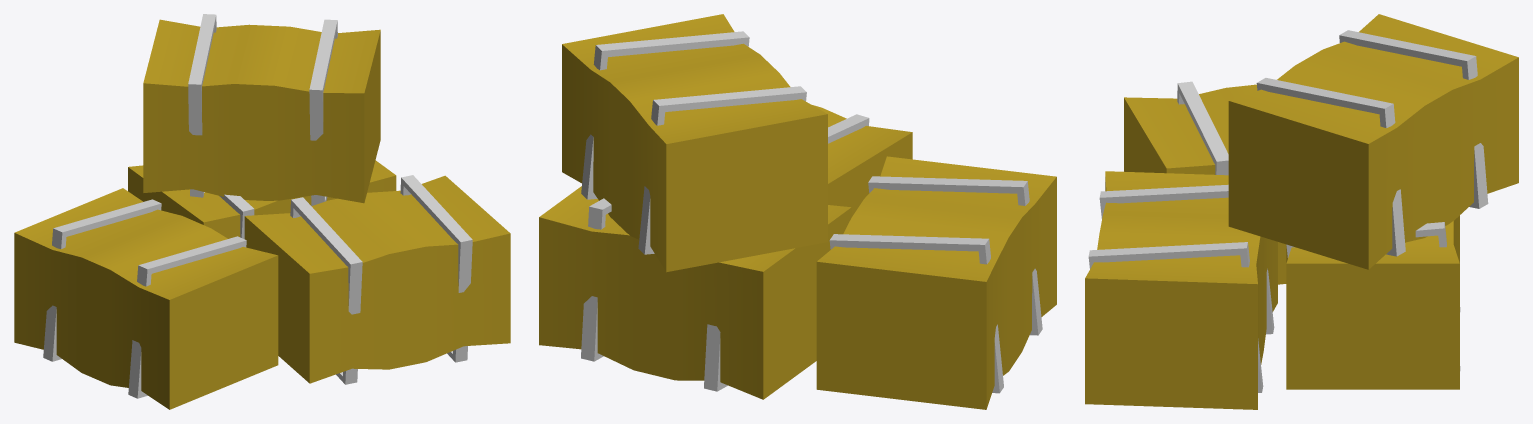
Rendered from hayBales.FBX.
3 renders of one model, left to right at view 1: azimuth 30°, elevation 25°; view 2: azimuth 150°, elevation 25°; view 3: azimuth 270°, elevation 25°, orthographic. The views are drawn at different scales.
Parts seen in each view (by area): view 1: Box004, Box002, Box003, Box001, Tube006, Tube005, Tube008, Tube007, Tube003, Tube004, Tube002; view 2: Box002, Box004, Box001, Box003, Tube004, Tube003, Tube008, Tube007, Tube001, Tube002, Tube006; view 3: Box002, Box003, Box001, Box004, Tube004, Tube003, Tube005, Tube006, Tube008, Tube001.
Boxes of the visible parts, x1,y1,x2,y2 form: Box004: (14,188,278,409); Box002: (143,19,380,203); Box003: (244,175,510,383); Box001: (128,160,396,238); Tube006: (290,197,362,384); Tube005: (400,175,472,362); Tube008: (128,236,246,398); Tube007: (43,199,161,361); Tube003: (309,19,337,205); Tube004: (188,14,216,197); Tube002: (219,194,254,239); Box002: (562,14,827,272); Box004: (816,156,1056,409); Box001: (539,186,851,399); Box003: (812,105,912,216); Tube004: (638,86,806,254); Tube003: (581,31,749,199); Tube008: (868,176,1042,335); Tube007: (829,234,1003,393); Tube001: (581,198,611,361); Tube002: (704,324,727,391); Tube006: (828,114,869,143); Box002: (1228,14,1518,269); Box003: (1085,171,1277,409); Box001: (1286,215,1459,389); Box004: (1124,84,1286,284); Tube004: (1339,30,1488,208); Tube003: (1256,78,1405,256); Tube005: (1088,242,1263,392); Tube006: (1099,184,1274,334); Tube008: (1177,81,1228,175); Tube001: (1286,222,1460,370).
Size of the model in its own units: 46.99 by 29.64 by 40.41.
